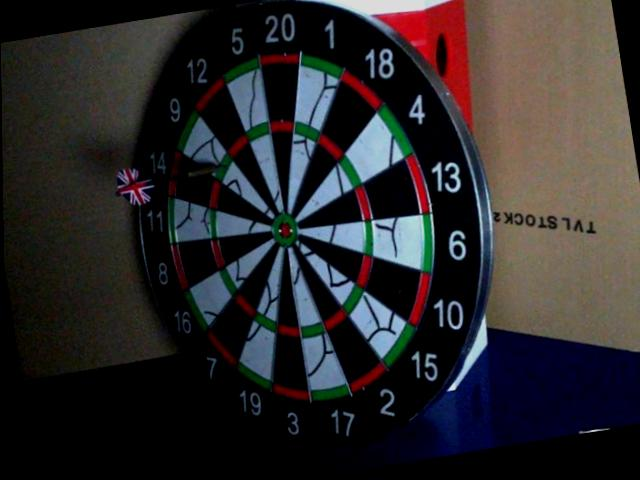triple_9: (215, 153, 233, 181)
